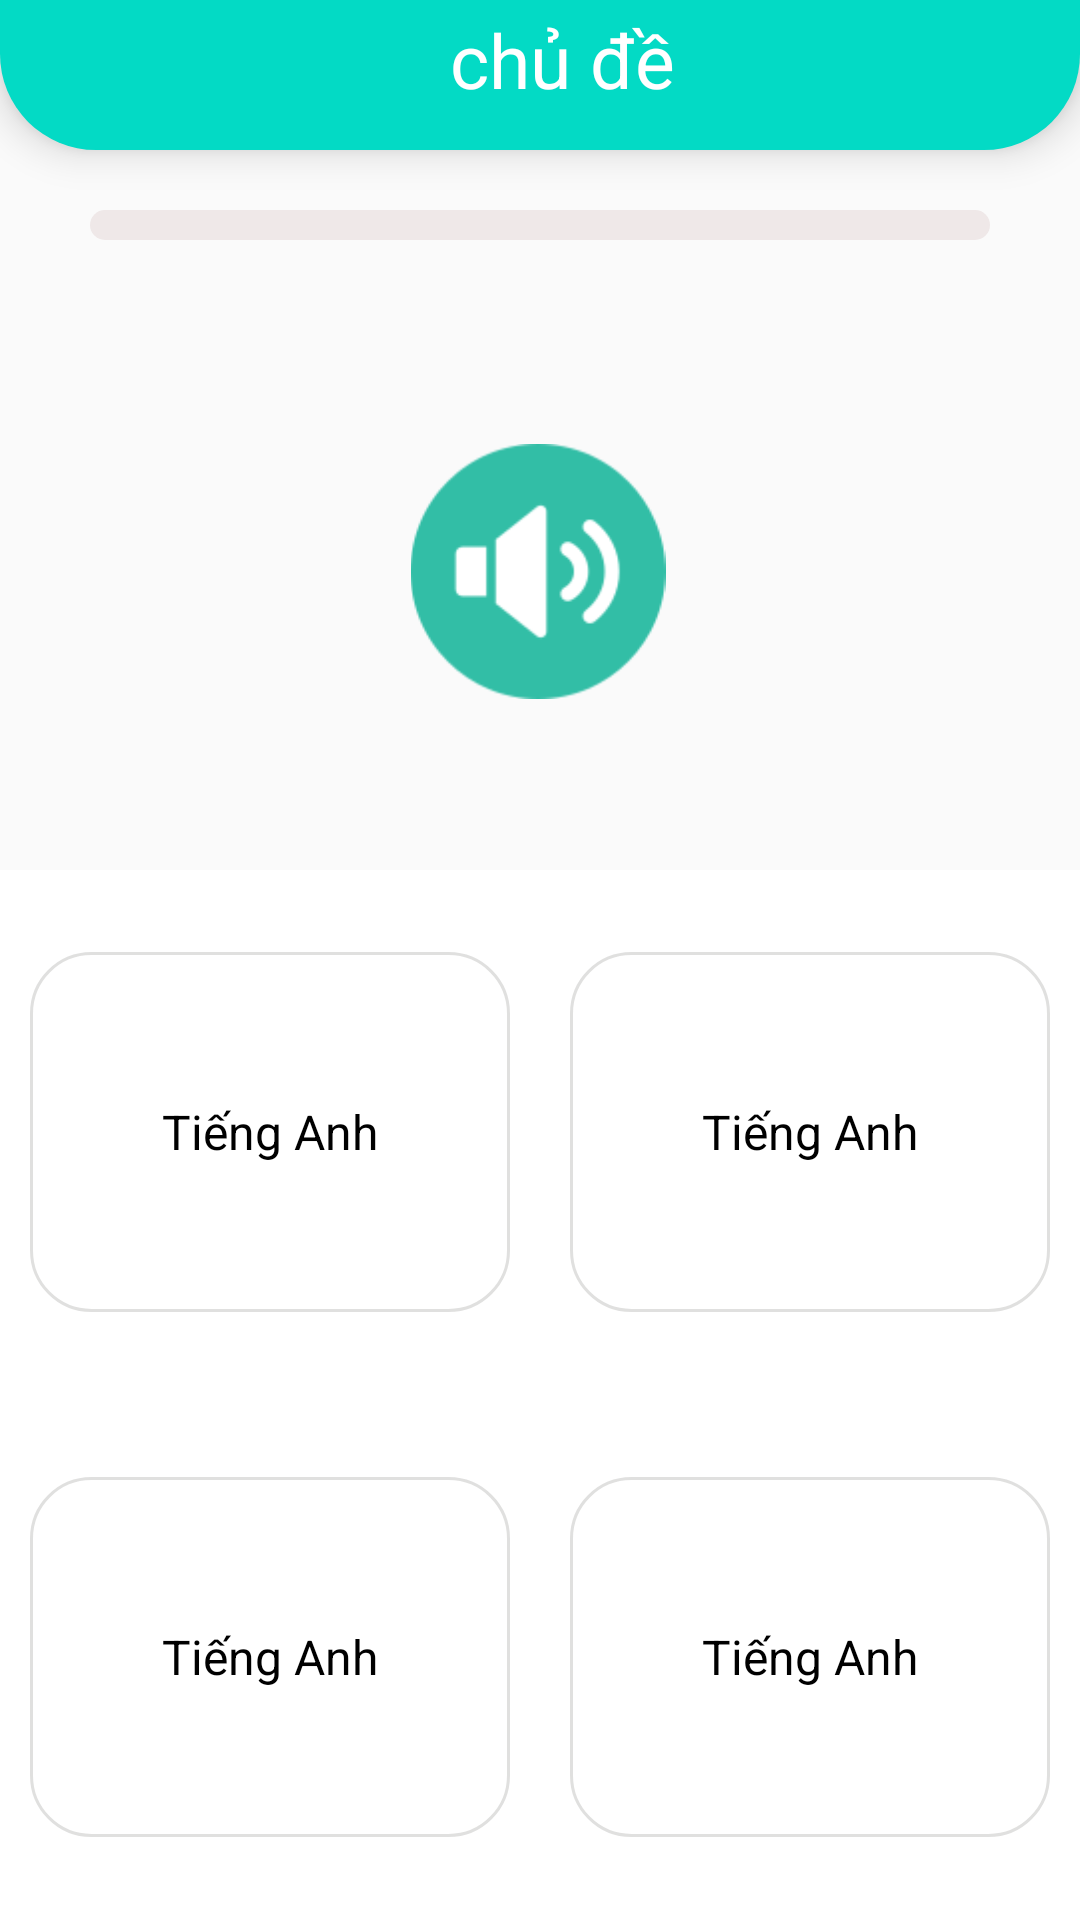

Named icons in this screenshot (1080w x 1920h) and their centers, [x,y]:
volume up: [538,571]
